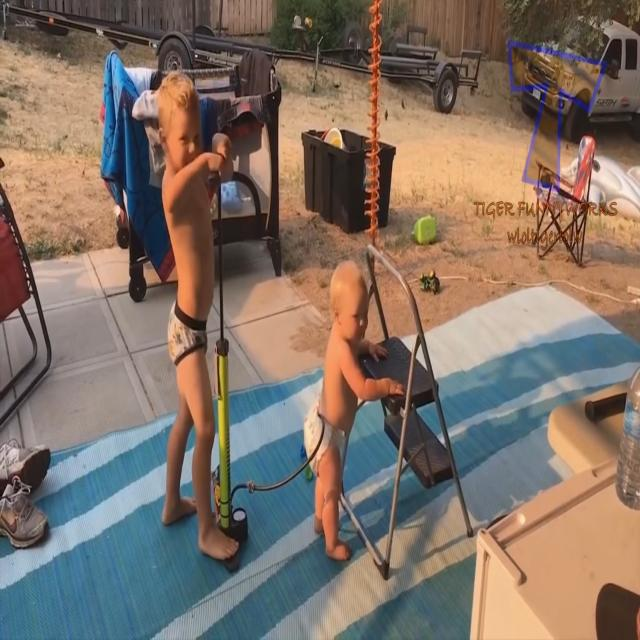safe: (152, 62, 241, 573), (307, 254, 371, 562)
